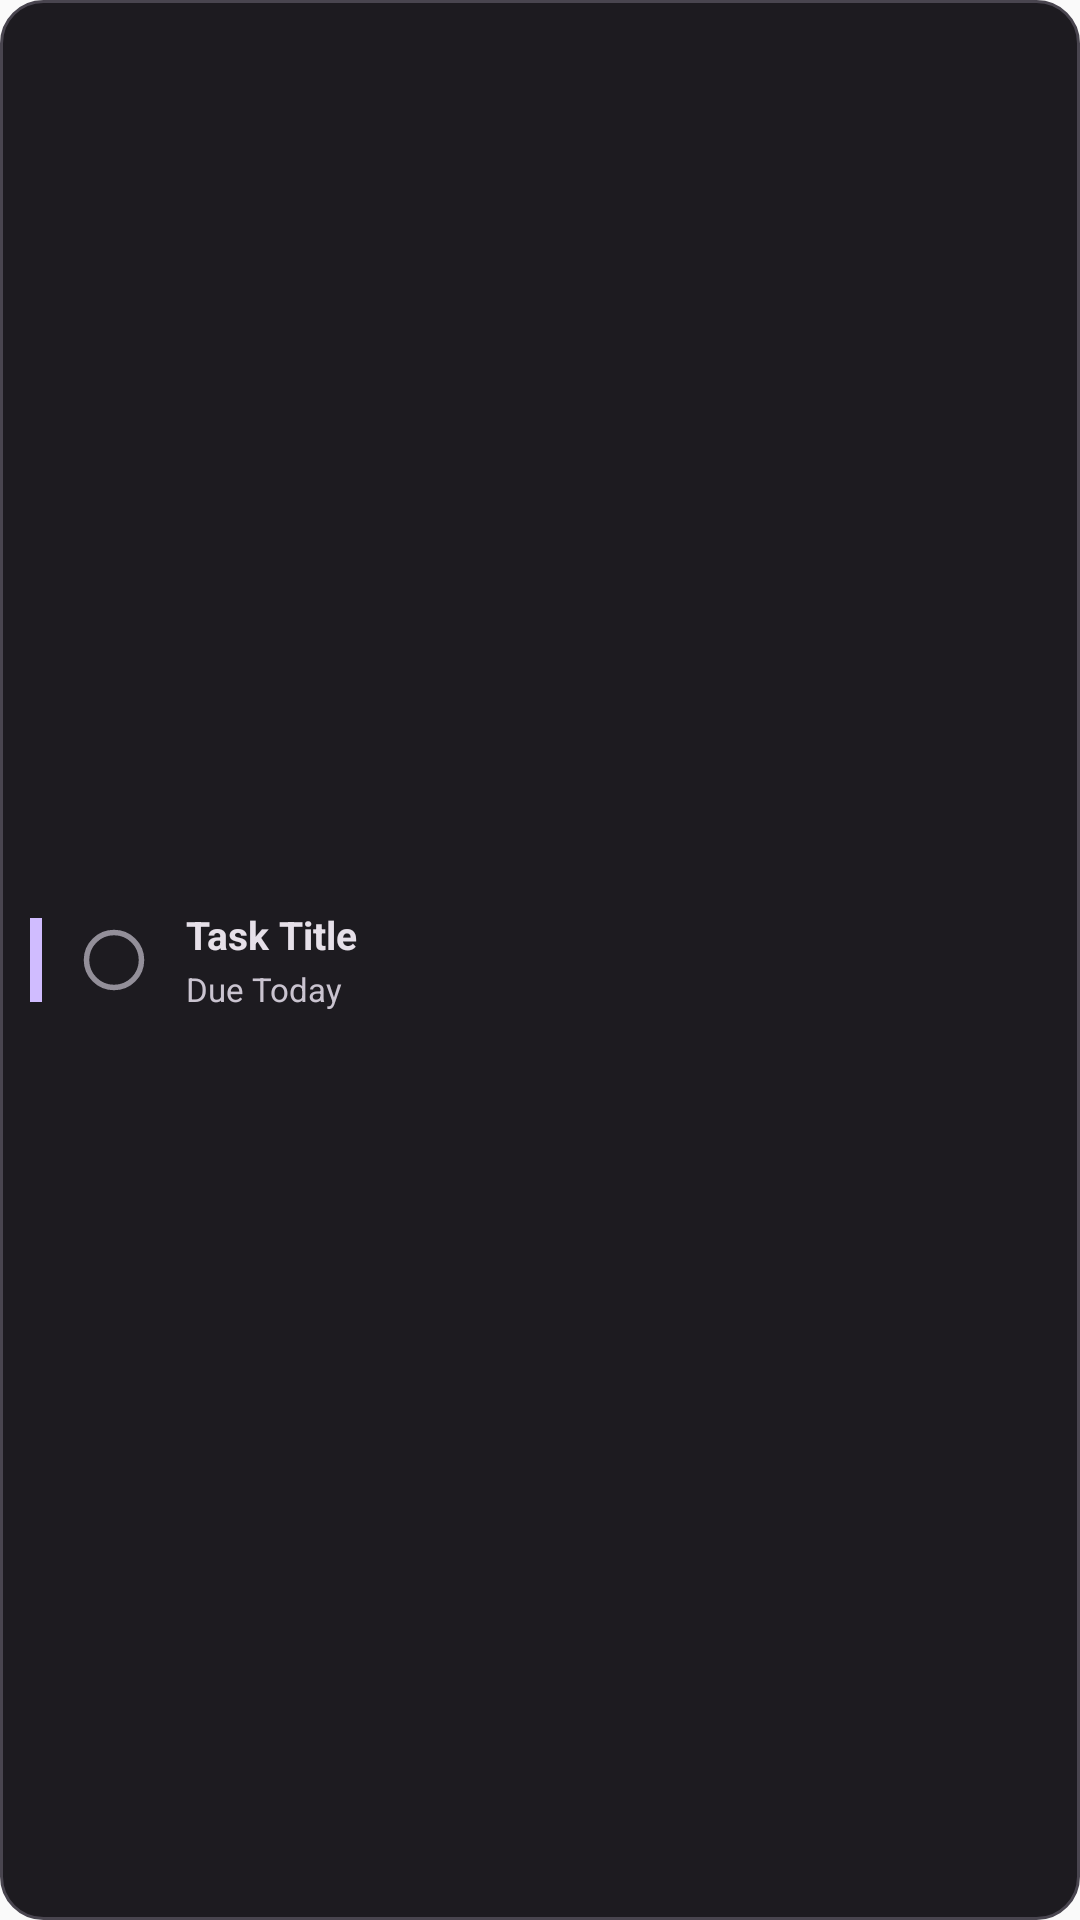

Named icons in this screenshot (1080px x 1920px) and their bounding boxes, (x1, y1, x2, y2):
Complete Task: (83, 929, 145, 991)
